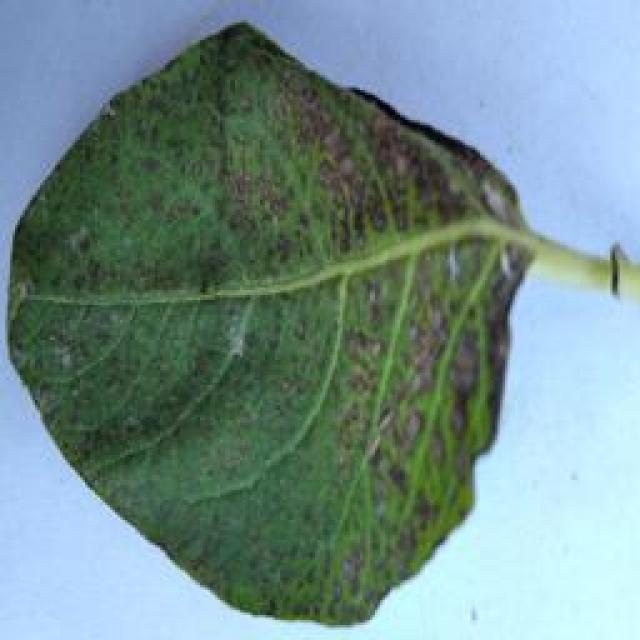Potato_Early_Blight: (1, 4, 628, 632)
